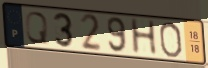2: (78, 12, 103, 53)
3: (51, 11, 76, 49)
9: (105, 16, 128, 55)
H: (128, 17, 159, 56)
O: (158, 21, 184, 59)
Q: (24, 11, 50, 46)
